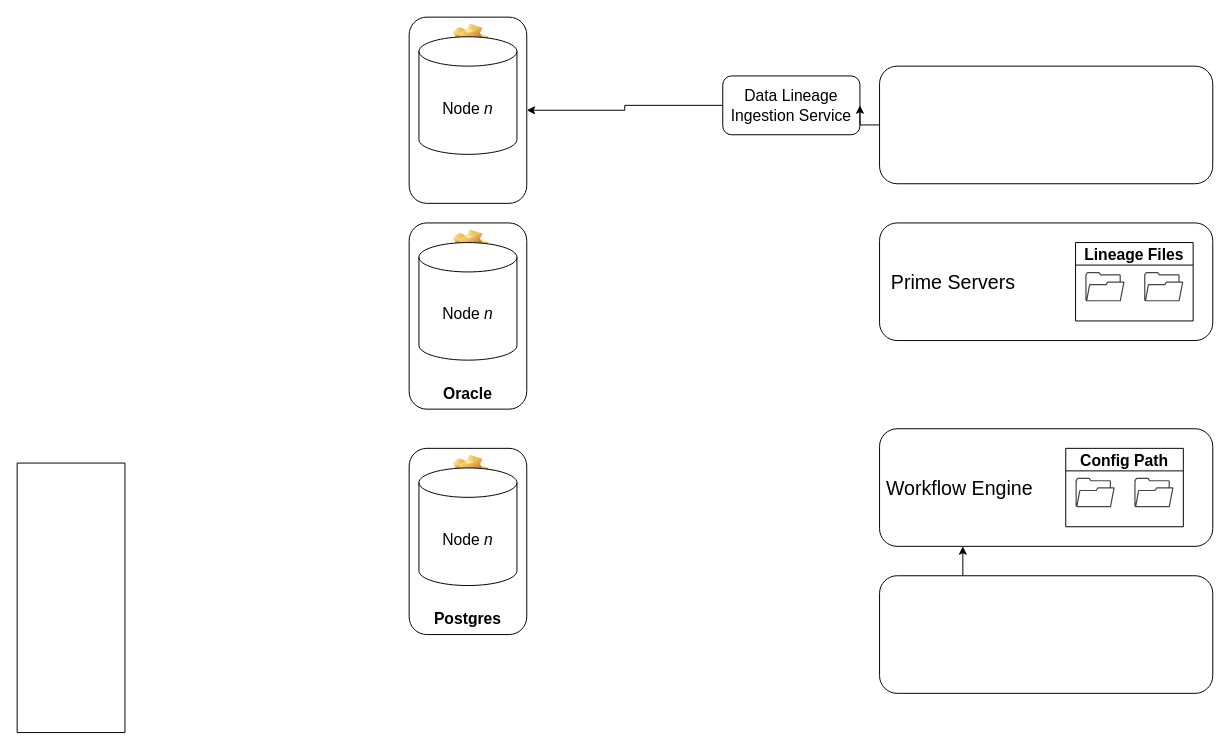
Some shapes in this 1230 by 750 pixel diagram are drawn without their labels. Each missing label, with the box of its shape:
Cassandra: (408, 16, 527, 203)
Issue Service: (879, 575, 1213, 693)
Lineage Propagation: (879, 65, 1213, 184)
